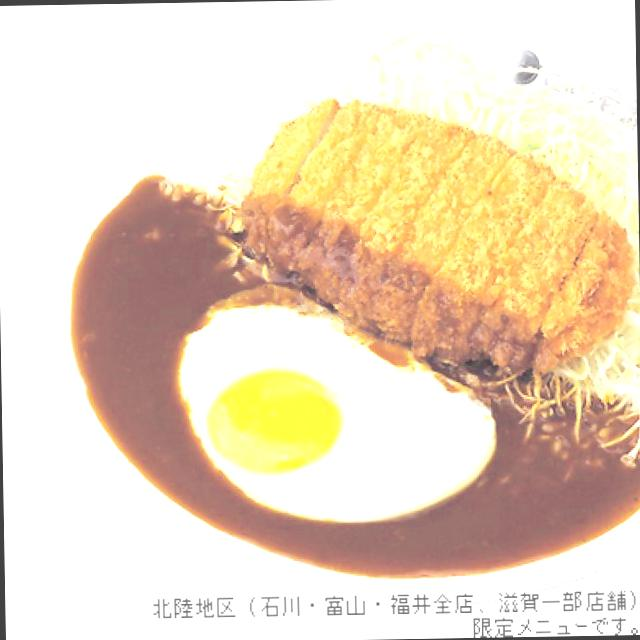Egg: (179, 302, 491, 524)
